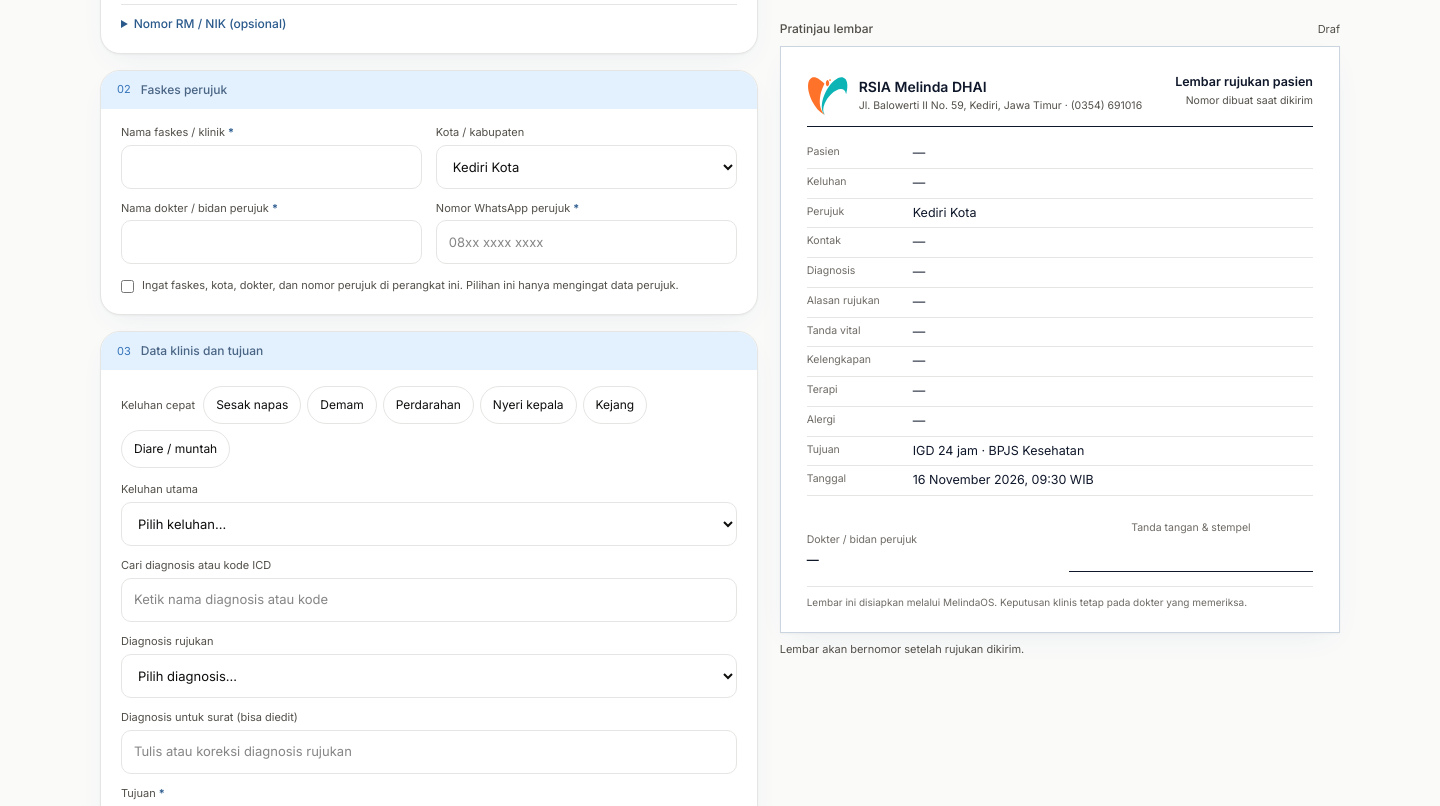
Test: referral assistance › fills the complaint from a one-tap chip and generates its vitals
The image size is (1440, 806).
(page scrolled)
Click the button "Sesak napas": (252, 405) [203,386,301,424]
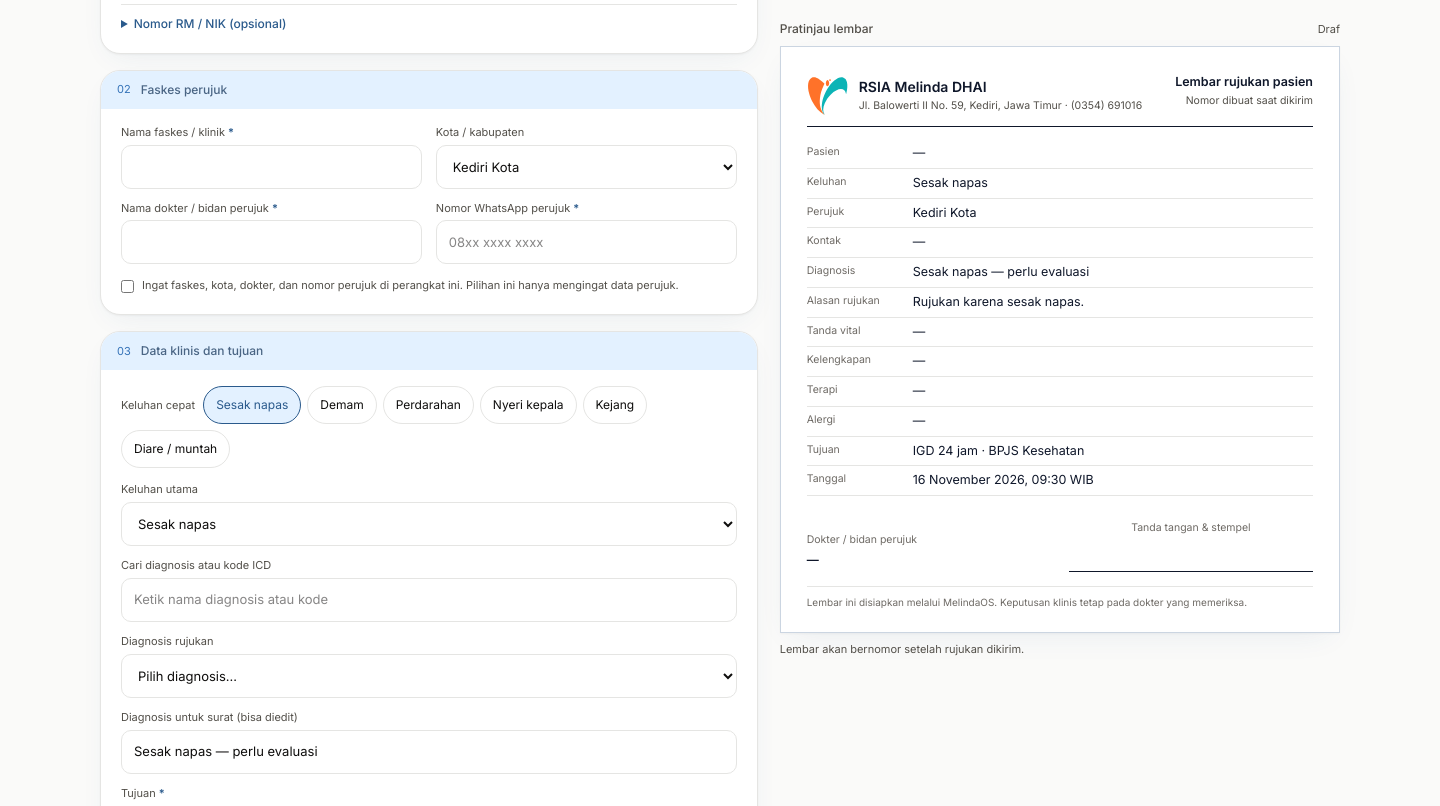
Check: the dropdown labelled "Keluhan utama" shows "Sesak napas", box [121,502,737,546]
Check: the text "Sesak napas — perlu evaluasi" is shown, box [913,264,1089,279]
